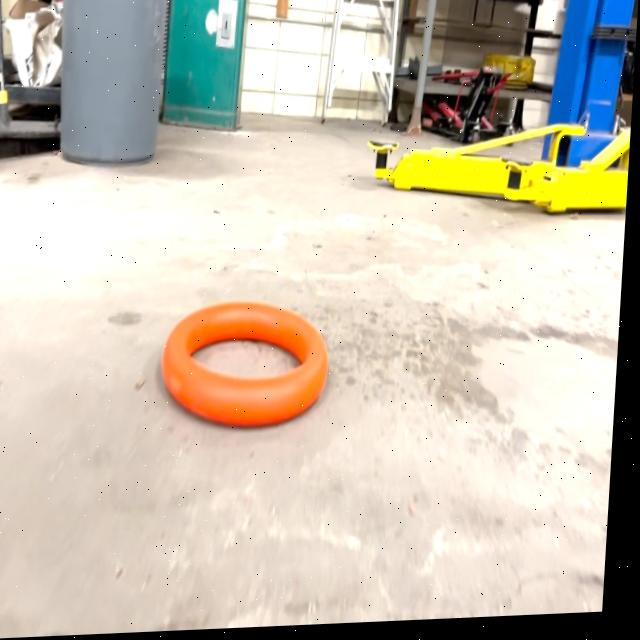note: (164, 301, 337, 436)
